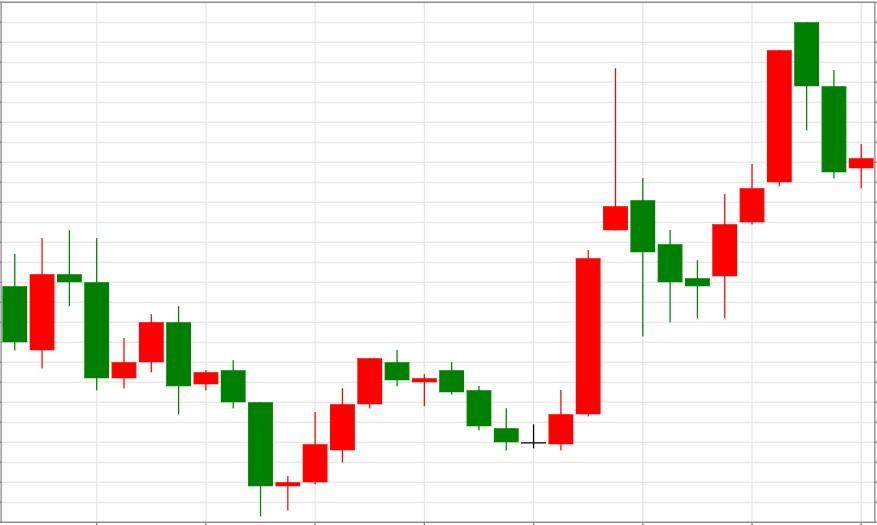morning_star_rise: (166, 305, 330, 517)
shooting_star_fall: (521, 68, 629, 450)
